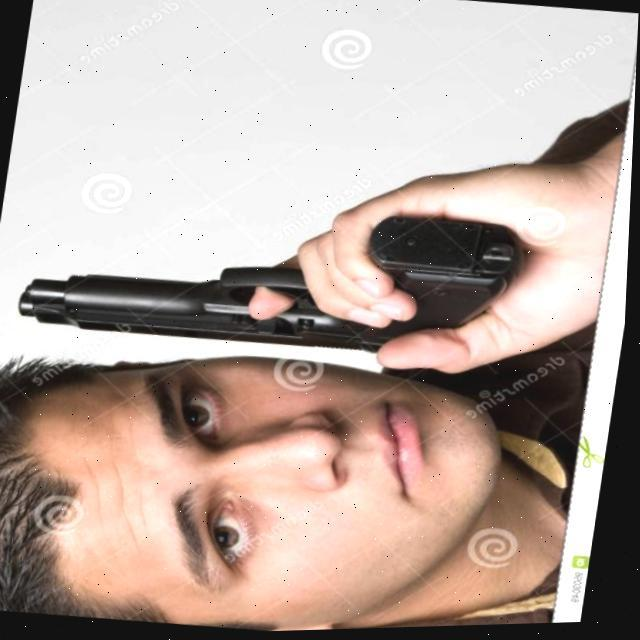gun: (16, 175, 526, 379)
